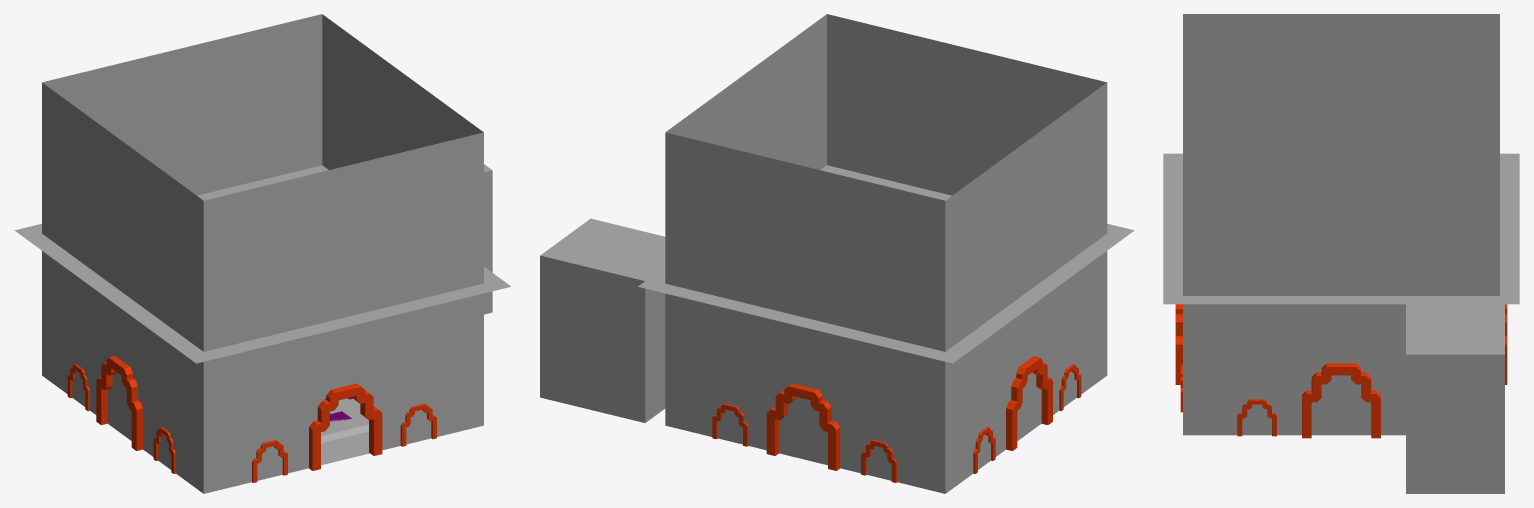
The model's file is Mesh Collider Fase 2.fbx.
3 views of the same model, side by side, from view 1: azimuth 30°, elevation 25°; view 2: azimuth 150°, elevation 25°; view 3: azimuth 270°, elevation 25° (orthographic). The views are drawn at different scales.
Parts seen in each view (by area): view 1: pPlane34, pCube2, pPlane27, polySurface260, polySurface257, polySurface266, pPlane16; view 2: pPlane34, polySurface266, pCube2, pPlane27, polySurface258, polySurface257; view 3: pPlane34, pCube2, pPlane27, polySurface266, polySurface259, polySurface260.
Boxes of the visible parts, x1,y1,x2,y2 form: pPlane34: (42,14,483,493); pCube2: (42,251,483,493); pPlane27: (14,164,511,363); polySurface260: (252,383,436,482); polySurface257: (67,356,175,473); polySurface266: (484,170,492,314); pPlane16: (321,431,369,465); pPlane34: (665,14,1107,493); polySurface266: (540,255,665,422); pCube2: (706,251,1107,493); pPlane27: (540,165,1134,363); polySurface258: (712,383,897,482); polySurface257: (973,356,1081,473); pPlane34: (1183,14,1499,435); pCube2: (1183,304,1405,435); pPlane27: (1163,153,1519,354); polySurface266: (1406,354,1504,493); polySurface259: (1237,363,1380,438); polySurface260: (1175,304,1182,412).
Bounding box in the file's own units: 96 × 64.06 × 72.
